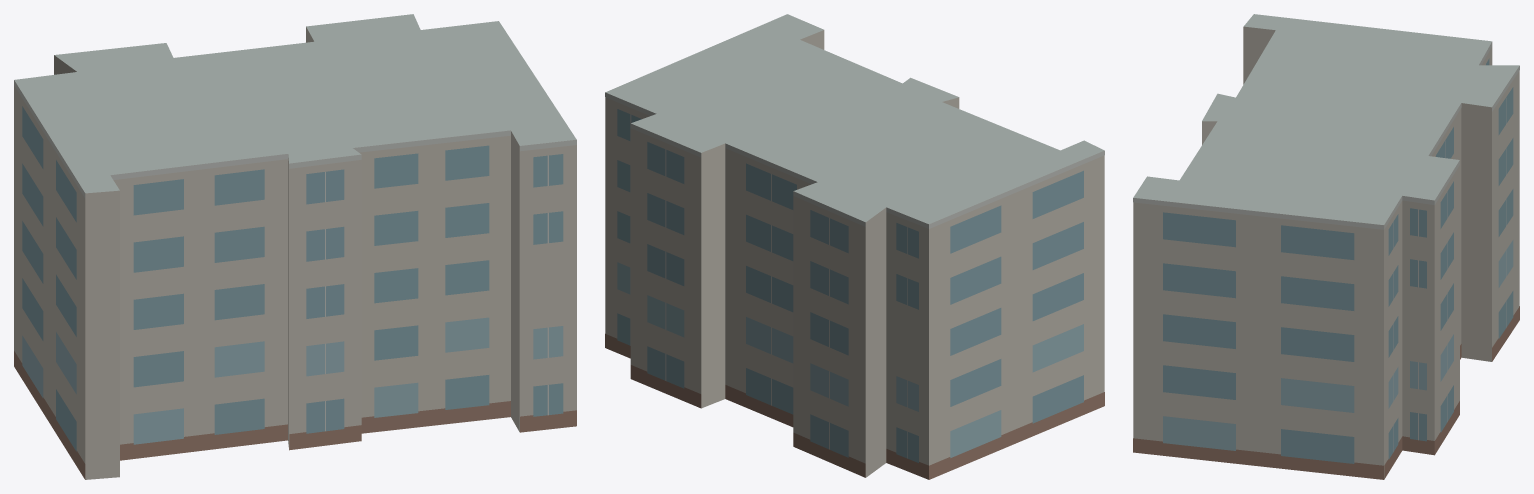
The model's file is survey-upis-32755565.glb.
3 views of the same model, side by side, from view 1: azimuth 30°, elevation 25°; view 2: azimuth 150°, elevation 25°; view 3: azimuth 270°, elevation 25° (orthographic). The views are drawn at different scales.
Parts seen in each view (by area): view 1: survey-upis-32755565.tmp; view 2: survey-upis-32755565.tmp; view 3: survey-upis-32755565.tmp.
Part boxes in pixels (<box>): survey-upis-32755565.tmp: <box>14,14,576,479</box>; survey-upis-32755565.tmp: <box>605,14,1104,479</box>; survey-upis-32755565.tmp: <box>1133,14,1519,479</box>.
Size of the model in its own units: 23.48 by 13.2 by 18.17.
